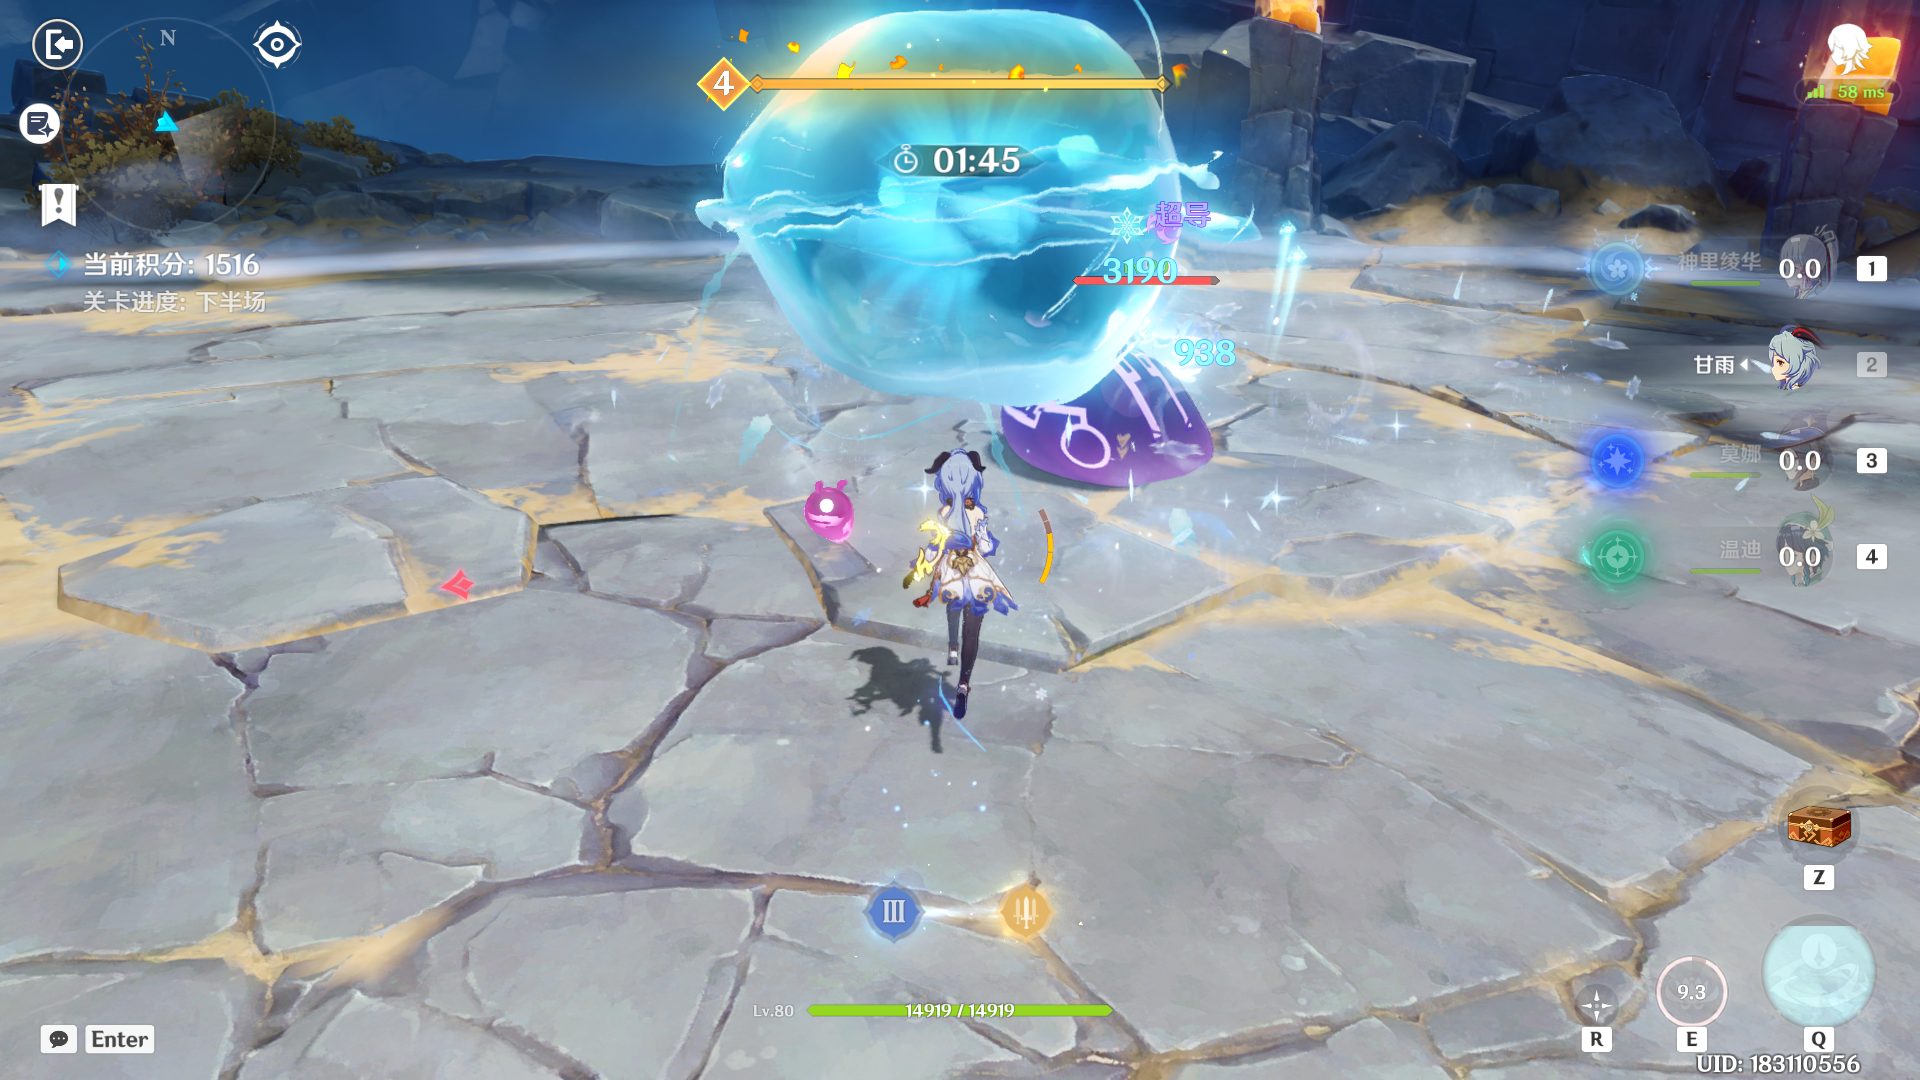character: (870, 431, 1063, 745)
slime: (963, 291, 1273, 513)
